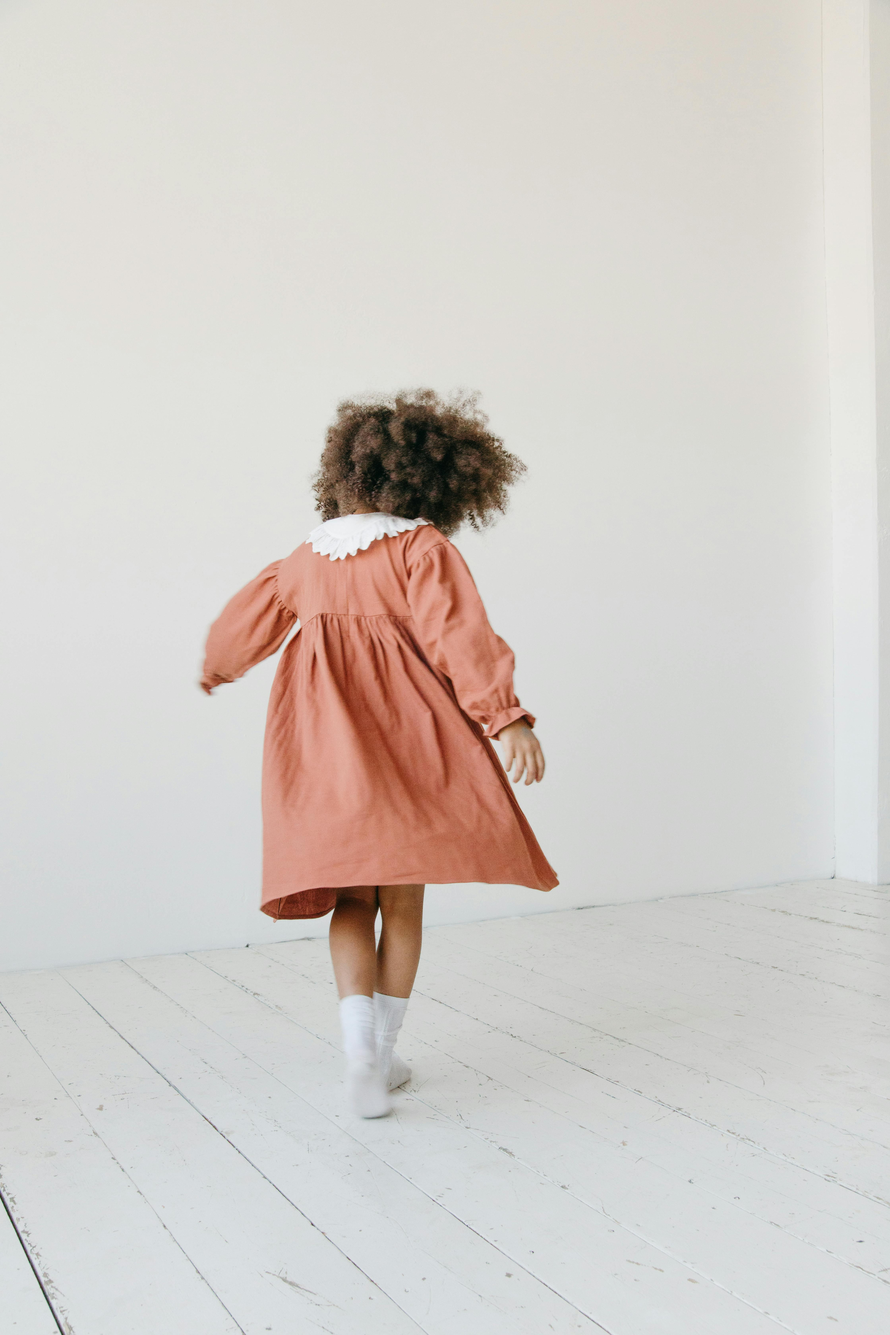Human: (209, 352, 539, 1077)
